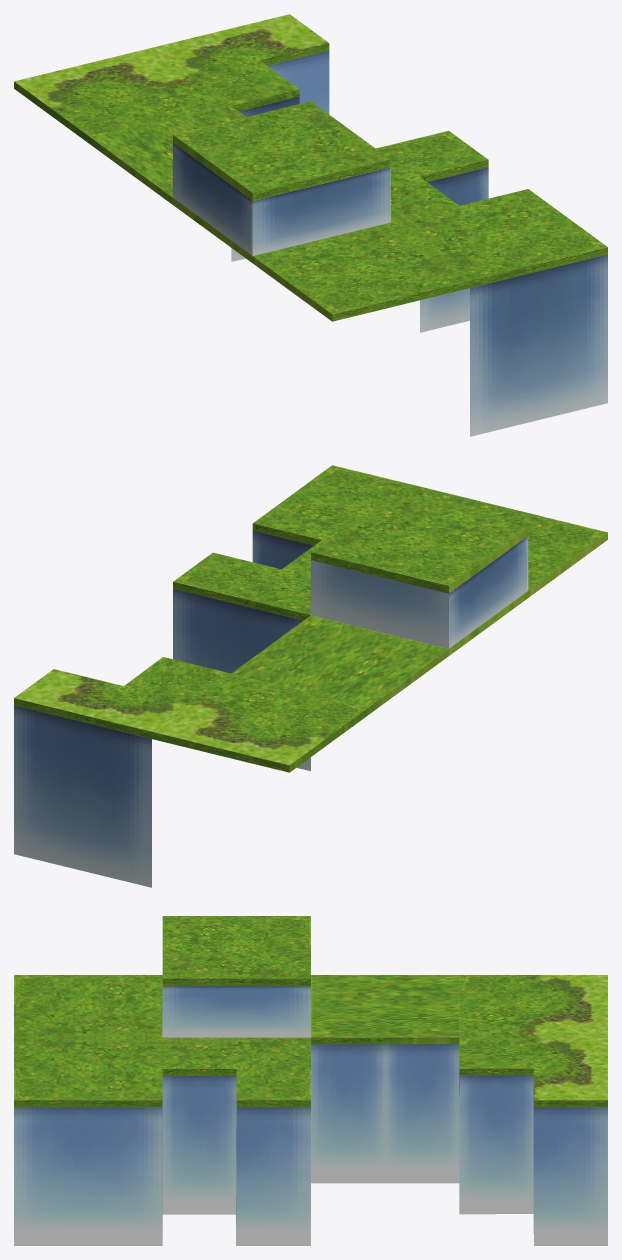
Rendered from a_ESDground01a.glb.
3 views of the same model, one above another, from view 1: azimuth 30°, elevation 25°; view 2: azimuth 150°, elevation 25°; view 3: azimuth 270°, elevation 25° (orthographic). The views are drawn at different scales.
Parts seen in each view (by area): view 1: a_ESDground01a; view 2: a_ESDground01a; view 3: a_ESDground01a.
Part boxes in pixels (x1,y1,x2,y2): a_ESDground01a: (14, 14, 607, 436); a_ESDground01a: (14, 465, 607, 887); a_ESDground01a: (14, 916, 607, 1245).
Size of the model in its own units: 2 by 1.52 by 4.
Materials: 2 (2 with a texture image).
